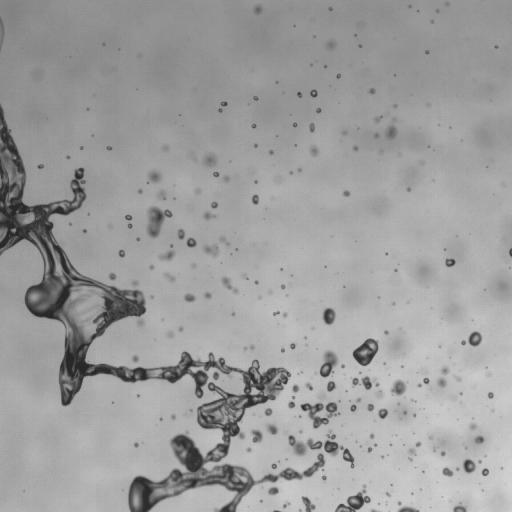droplet: (300, 392, 338, 428), (146, 206, 172, 237), (352, 338, 378, 365), (319, 350, 338, 377), (461, 331, 481, 346), (390, 379, 406, 396), (322, 307, 335, 324), (301, 496, 315, 511), (203, 244, 218, 257), (147, 170, 161, 183), (203, 154, 216, 167), (463, 459, 475, 473), (159, 249, 174, 260), (251, 429, 262, 442), (386, 125, 396, 138), (267, 423, 277, 434), (203, 211, 215, 220), (453, 503, 466, 511), (186, 237, 196, 247), (184, 293, 195, 302), (442, 467, 453, 476), (309, 146, 318, 156), (378, 408, 387, 418), (268, 486, 278, 495), (164, 273, 175, 281), (288, 396, 295, 408), (437, 378, 446, 387), (445, 258, 455, 266), (327, 381, 335, 391), (157, 190, 165, 199), (441, 366, 449, 375), (375, 389, 383, 398), (327, 41, 335, 49), (475, 435, 483, 443), (252, 194, 258, 204), (178, 229, 184, 239), (254, 5, 261, 13), (310, 89, 317, 97), (108, 273, 116, 280), (305, 382, 312, 390), (292, 384, 299, 392), (264, 408, 272, 415), (374, 116, 381, 123), (204, 292, 211, 299), (469, 423, 476, 430), (408, 448, 415, 455), (481, 468, 488, 475), (211, 201, 217, 208), (118, 250, 124, 257), (132, 355, 138, 362), (367, 404, 373, 411), (309, 123, 314, 131), (343, 190, 349, 196), (167, 331, 173, 337), (455, 375, 461, 381), (350, 405, 356, 411), (220, 101, 227, 106), (423, 377, 428, 384), (369, 88, 375, 93), (213, 172, 219, 177), (223, 176, 229, 181), (290, 342, 295, 348), (488, 392, 493, 398), (283, 502, 289, 507), (342, 130, 347, 135), (38, 164, 43, 169), (195, 188, 200, 193), (132, 280, 137, 285), (369, 433, 374, 438), (416, 442, 421, 447), (297, 92, 301, 97), (316, 108, 321, 112), (353, 146, 358, 150), (273, 311, 278, 315), (283, 312, 287, 317), (452, 395, 456, 400), (171, 414, 175, 419), (134, 442, 138, 447), (271, 464, 276, 468), (253, 96, 257, 100), (218, 108, 222, 112), (107, 146, 111, 150), (163, 146, 167, 150), (269, 150, 273, 154), (138, 189, 142, 193), (149, 265, 153, 269), (281, 284, 285, 288), (179, 327, 183, 331), (384, 330, 388, 334), (417, 383, 421, 387), (368, 447, 372, 451), (441, 451, 445, 455), (322, 476, 326, 480), (386, 492, 390, 496), (242, 275, 247, 278), (337, 74, 340, 78), (392, 118, 396, 121), (374, 134, 378, 137), (406, 188, 410, 191), (254, 280, 258, 283), (250, 345, 253, 349), (247, 448, 251, 451), (425, 50, 428, 53), (293, 123, 296, 126), (252, 124, 255, 127), (83, 229, 86, 232), (281, 349, 284, 352), (341, 364, 344, 367), (357, 398, 360, 401), (329, 7, 331, 10), (495, 45, 497, 48), (394, 104, 396, 107), (136, 238, 139, 240), (191, 264, 194, 266), (374, 443, 376, 446), (409, 458, 412, 460), (478, 460, 481, 462), (67, 156, 69, 158), (298, 169, 300, 171), (244, 347, 246, 349), (412, 399, 414, 401), (189, 410, 191, 412), (404, 411, 406, 413), (299, 430, 301, 432), (429, 437, 431, 439), (433, 447, 435, 449), (456, 468, 458, 470)
ligament: (0, 105, 322, 511), (288, 430, 354, 468), (334, 484, 370, 511), (352, 376, 379, 389), (221, 277, 238, 293), (397, 501, 419, 511), (0, 18, 4, 48), (125, 214, 132, 227), (220, 237, 228, 244), (370, 509, 380, 511), (509, 248, 511, 256), (273, 510, 280, 511)
